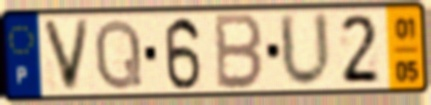2: (336, 13, 383, 86)
6: (162, 14, 204, 92)
B: (214, 11, 265, 92)
Q: (93, 16, 146, 93)
U: (276, 9, 335, 91)
V: (39, 17, 94, 94)
